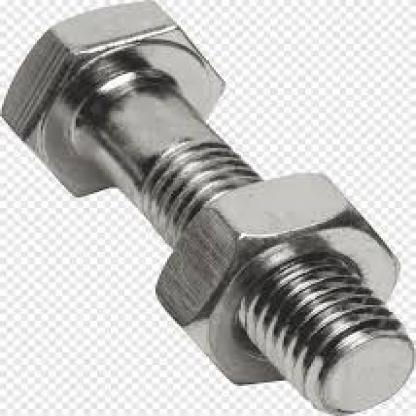METAL: (0, 0, 415, 413), (154, 171, 400, 384)
